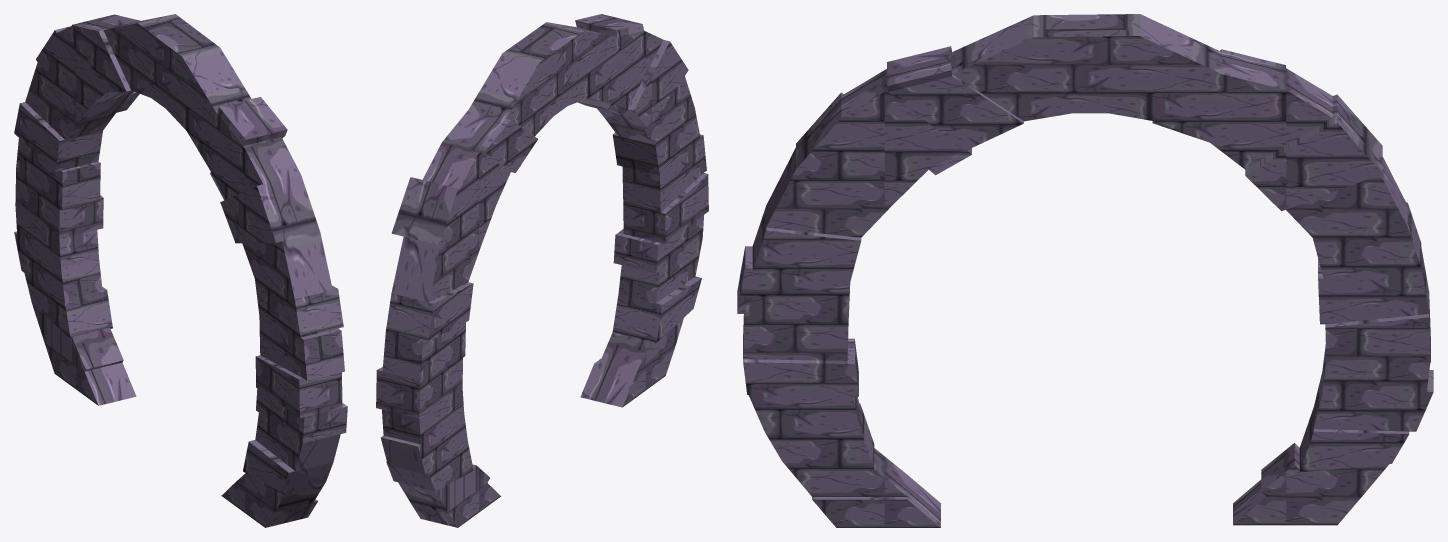
File: purple portal.fbx
3 views of the same model, side by side, from view 1: azimuth 30°, elevation 25°; view 2: azimuth 150°, elevation 25°; view 3: azimuth 270°, elevation 25° (orthographic). The views are drawn at different scales.
Parts seen in each view (by area): view 1: Box001; view 2: Box001; view 3: Box001.
Part boxes in pixels (x1,y1,x2,y2): Box001: (14, 14, 347, 527); Box001: (376, 14, 708, 527); Box001: (737, 14, 1433, 527).
Size of the model in its own units: 0.7243 by 5.17 by 6.67.
